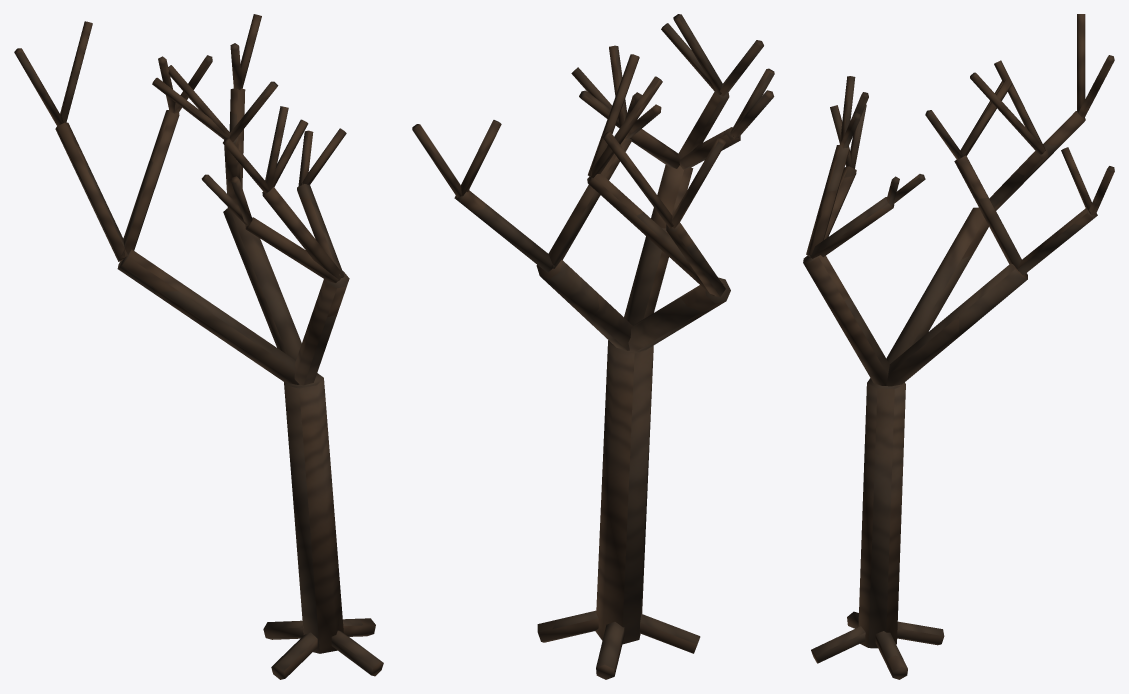
File: R21_dead_tree_v1.glb
The picture shows the model from 3 angles, left to right: view 1: azimuth 30°, elevation 25°; view 2: azimuth 150°, elevation 25°; view 3: azimuth 270°, elevation 25°; orthographic projection. The views are drawn at different scales.
Parts seen in each view (by area): view 1: R21_dead_tree_v1; view 2: R21_dead_tree_v1; view 3: R21_dead_tree_v1.
Boxes of the visible parts, bbox=[...] form: R21_dead_tree_v1: bbox=[14, 14, 383, 679]; R21_dead_tree_v1: bbox=[412, 14, 774, 679]; R21_dead_tree_v1: bbox=[803, 14, 1114, 679].
Size of the model in its own units: 2.83 by 6 by 3.07.
1 material, 1 textured.
